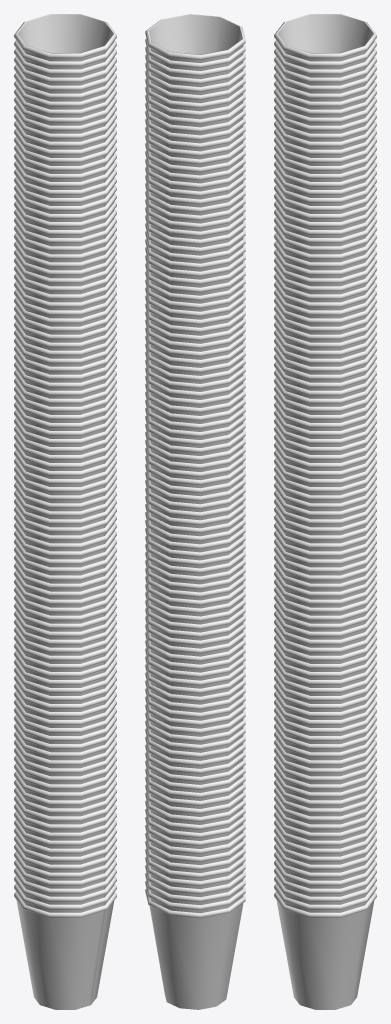
The model's file is PaperCup_03.fbx.
3 renders of one model, left to right at view 1: azimuth 90°, elevation 25°; view 2: azimuth 150°, elevation 25°; view 3: azimuth 270°, elevation 25°, orthographic.
Visible parts, largest first — view 1: pasted__pasted__pCylinder1; view 2: pasted__pasted__pCylinder1; view 3: pasted__pasted__pCylinder1.
Boxes of the visible parts, x1,y1,x2,y2 form: pasted__pasted__pCylinder1: (14,14,116,1009); pasted__pasted__pCylinder1: (145,14,245,1009); pasted__pasted__pCylinder1: (274,14,376,1009).
Size of the model in its own units: 7.73 by 83.97 by 8.13.
Materials: 1 (1 with a texture image).
